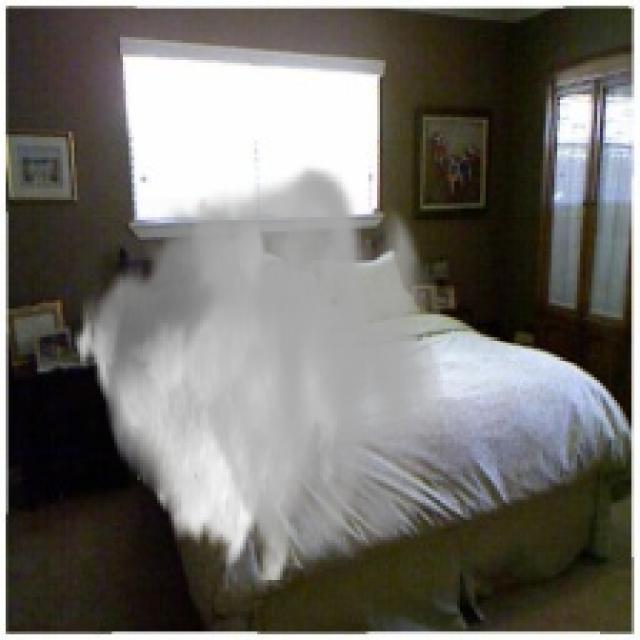Smoke: (71, 160, 446, 580)
